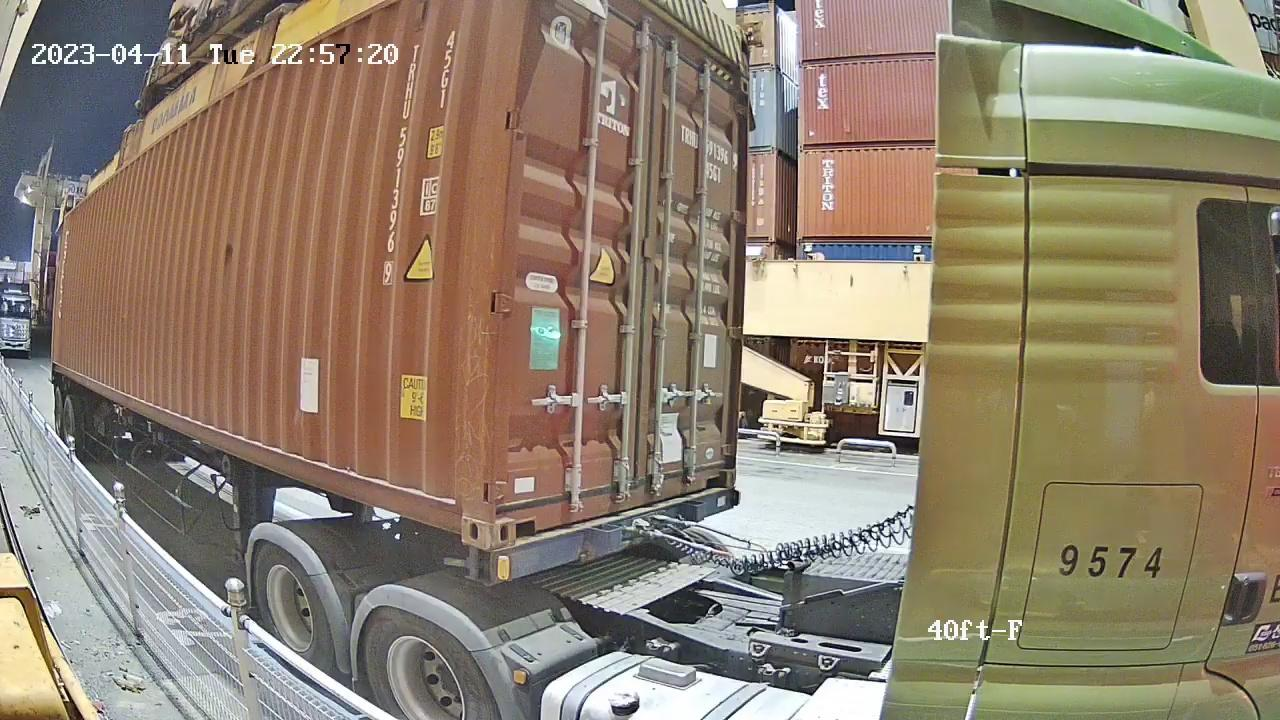Chassis: (492, 488, 739, 587)
Cone: (455, 539, 495, 589)
Container: (491, 450, 736, 548)
Hole_L: (491, 480, 537, 549)
Hole_R: (424, 462, 491, 548), (707, 451, 736, 489)
Tire: (365, 611, 496, 719), (255, 546, 334, 675)
